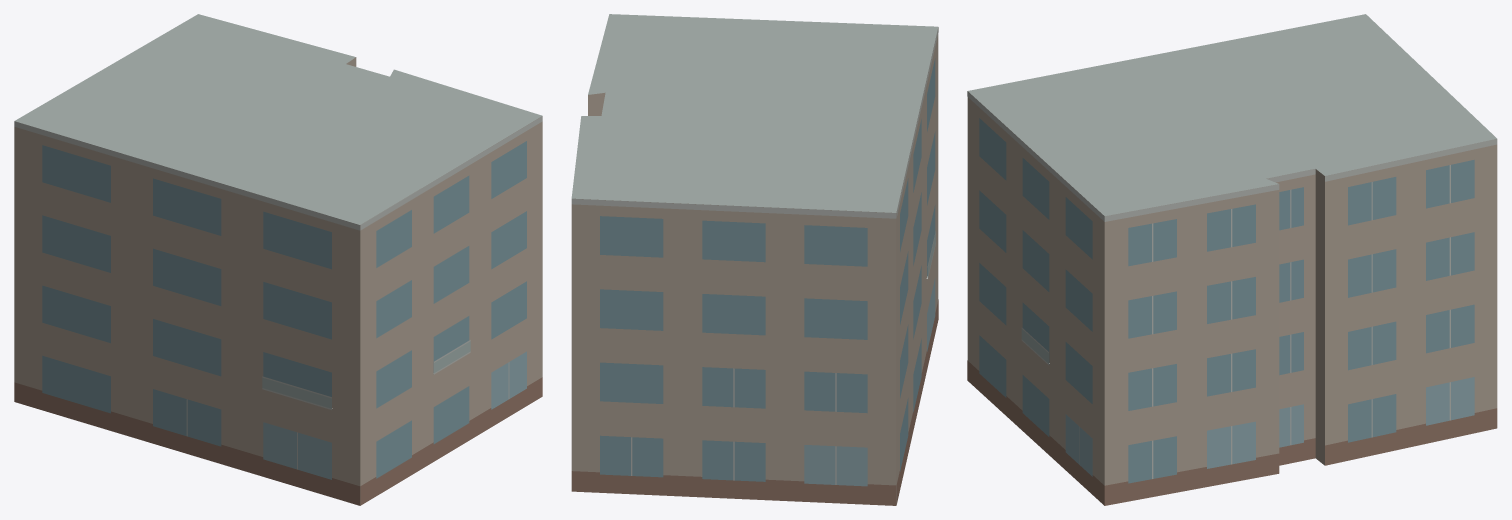
Rendered from survey-upis-32803951.glb.
3 renders of one model, left to right at view 1: azimuth 30°, elevation 25°; view 2: azimuth 150°, elevation 25°; view 3: azimuth 270°, elevation 25°, orthographic. The views are drawn at different scales.
Visible parts, largest first — view 1: survey-upis-32803951.tmp; view 2: survey-upis-32803951.tmp; view 3: survey-upis-32803951.tmp.
Part boxes in pixels (x1=…): survey-upis-32803951.tmp: x1=14, y1=14, x2=542, y2=505; survey-upis-32803951.tmp: x1=571, y1=14, x2=938, y2=505; survey-upis-32803951.tmp: x1=967, y1=14, x2=1497, y2=505.
Bounding box in the file's own units: 18.43 × 12.3 × 20.4.
